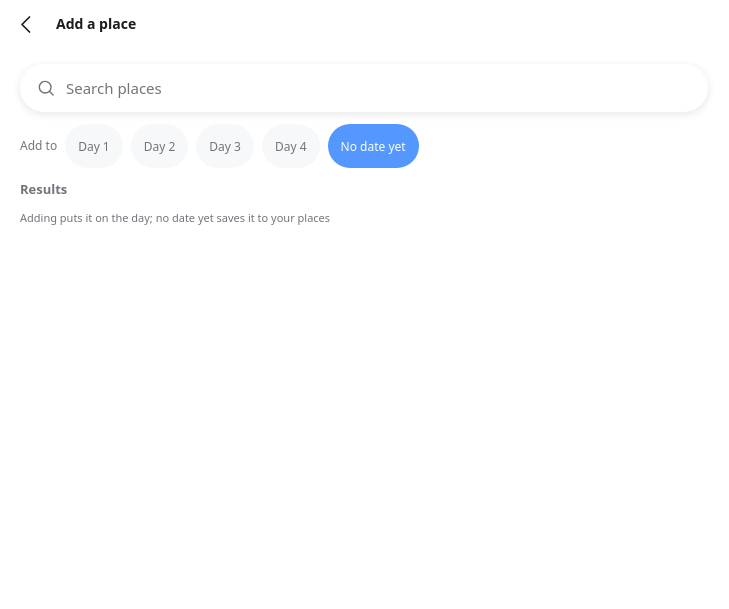
Test: FE-305 a search result shows an image only when it can be credited › renders the image and the server credit when both are present
The image size is (729, 609).
In the search field: (378, 88) [64,64,692,112], type "서울"
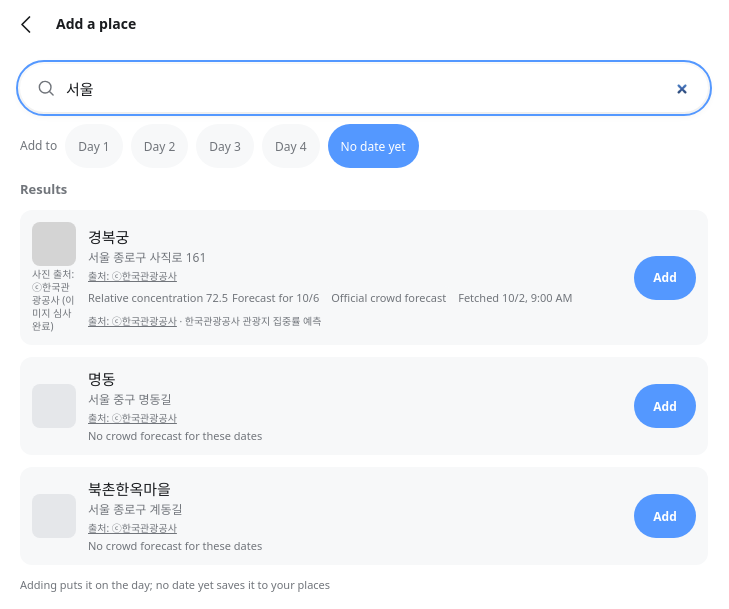
expect the text "경복궁" is shown: met, box [88,227,129,247]
expect the text "사진 출처: ⓒ한국관광공사 (이미지 심사 완료)" is shown: met, box [32,268,76,333]
